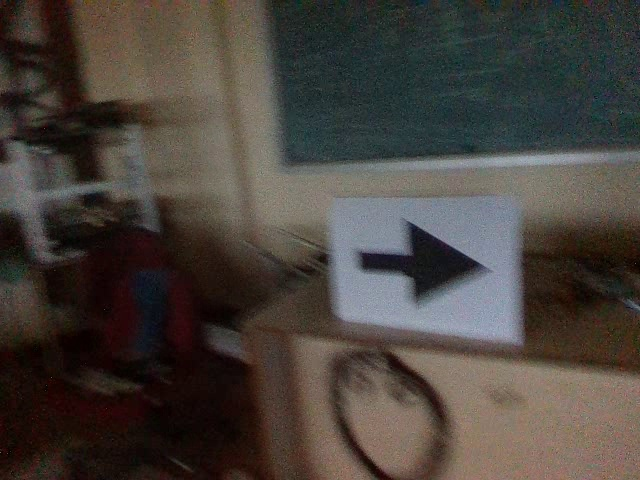Right: (349, 215, 497, 311)
